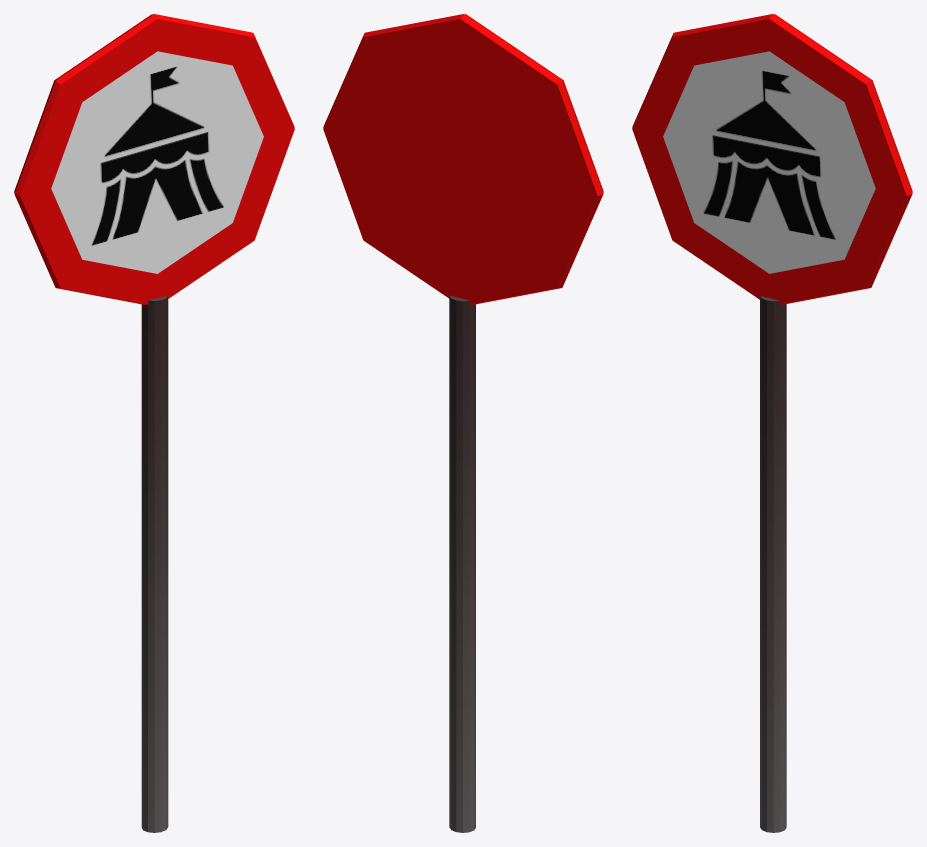
The model's file is Senal_de_Circo.fbx.
3 views of the same model, side by side, from view 1: azimuth 30°, elevation 25°; view 2: azimuth 150°, elevation 25°; view 3: azimuth 330°, elevation 25° (orthographic).
Visible parts, largest first — view 1: Circle, Cylinder; view 2: Circle, Cylinder; view 3: Circle, Cylinder.
Part boxes in pixels (bbox=[...]): Circle: bbox=[14, 14, 294, 304]; Cylinder: bbox=[141, 295, 168, 832]; Circle: bbox=[323, 14, 603, 304]; Cylinder: bbox=[449, 295, 475, 832]; Circle: bbox=[632, 14, 912, 304]; Cylinder: bbox=[760, 296, 786, 832].
Size of the model in its own units: 726 by 2017 by 57.38.
Materials: 2 (2 with a texture image).
